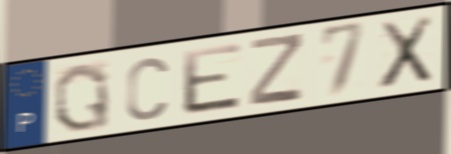7: (318, 18, 367, 104)
C: (123, 55, 171, 124)
E: (180, 40, 245, 118)
Q: (51, 60, 112, 134)
X: (376, 13, 436, 93)
Z: (247, 30, 306, 108)
